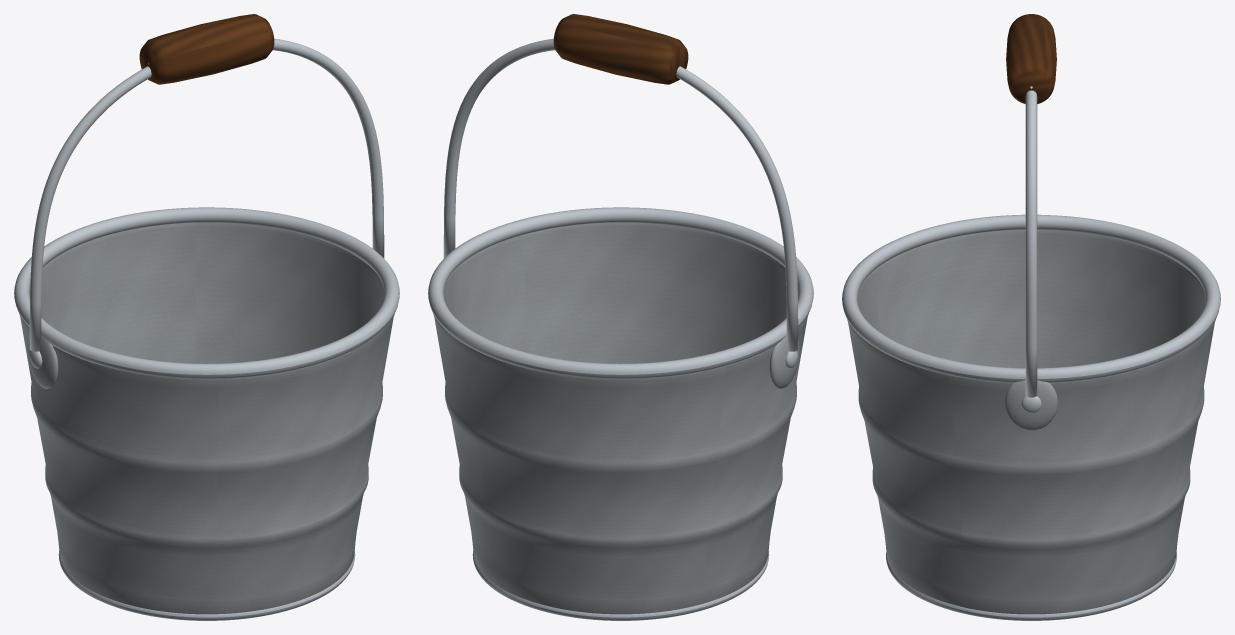
The model's file is Bucket.glb.
3 views of the same model, side by side, from view 1: azimuth 30°, elevation 25°; view 2: azimuth 150°, elevation 25°; view 3: azimuth 270°, elevation 25° (orthographic).
Parts seen in each view (by area): view 1: Equipment.Bucket_Pail, Equipment.Bucket_Bail; view 2: Equipment.Bucket_Pail, Equipment.Bucket_Bail; view 3: Equipment.Bucket_Pail, Equipment.Bucket_Bail.
Boxes of the visible parts, left/top/right/bottom form: Equipment.Bucket_Pail: left=14, top=207, right=399, bottom=620; Equipment.Bucket_Bail: left=29, top=14, right=384, bottom=351; Equipment.Bucket_Pail: left=428, top=207, right=813, bottom=620; Equipment.Bucket_Bail: left=443, top=14, right=798, bottom=351; Equipment.Bucket_Pail: left=842, top=214, right=1220, bottom=620; Equipment.Bucket_Bail: left=1006, top=14, right=1056, bottom=397.
Size of the model in its own units: 0.315 by 0.457 by 0.298.
3 materials, 2 textured.
